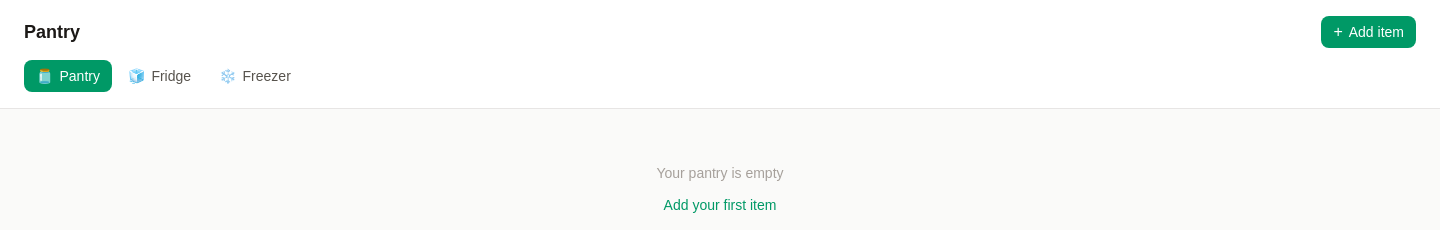
Scenario: PantryPage › shows empty state message specific to the active tab
Expected: the text "Your pantry is empty" is shown, [656, 163, 784, 183]
Click the button "🧊 Fridge".
click(160, 76)  # box [116, 60, 203, 92]
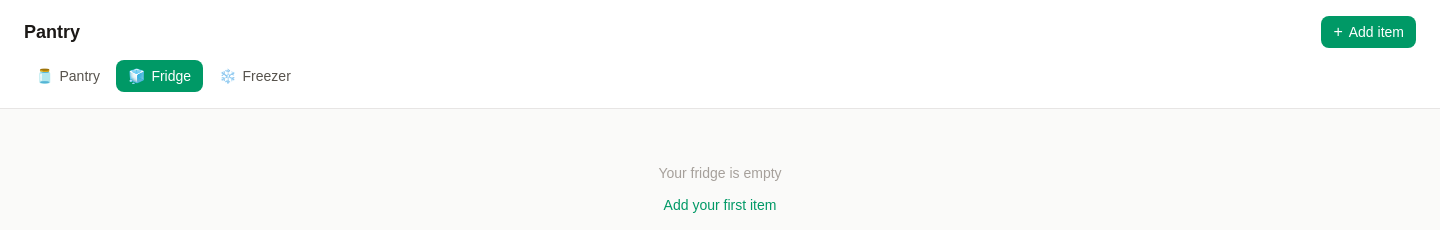
Result: the text "Your fridge is empty" is shown at [658, 163, 782, 183]
